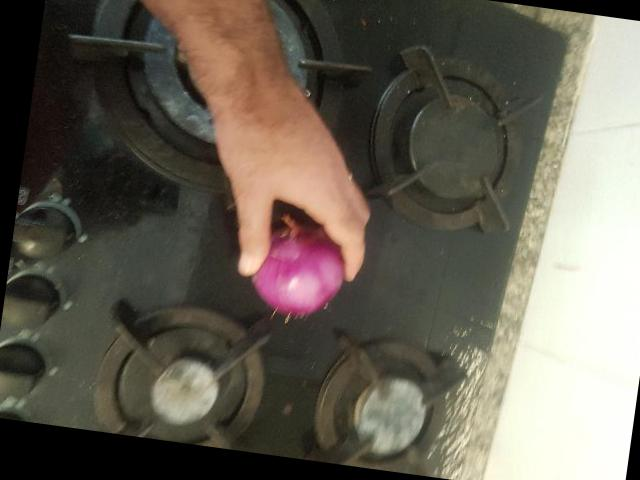onion: (253, 216, 353, 308)
